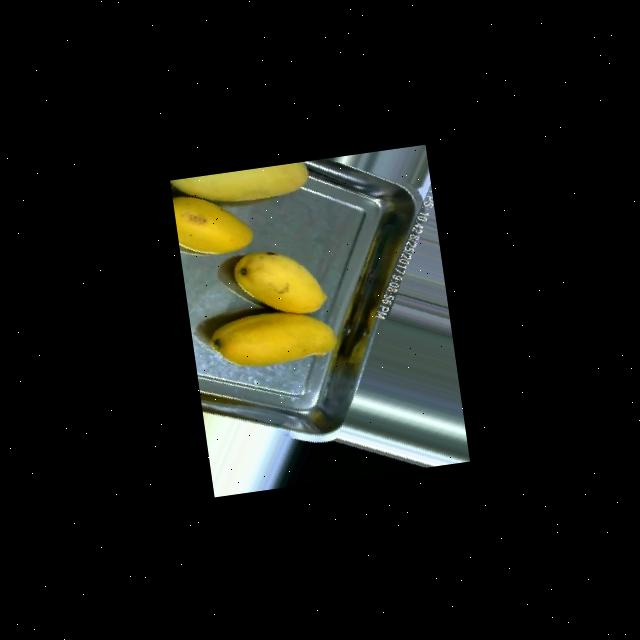Mango: (206, 301, 340, 373), (230, 241, 331, 324), (170, 160, 312, 211), (172, 184, 255, 260)
